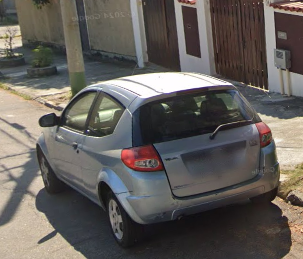car: (35, 71, 281, 246)
